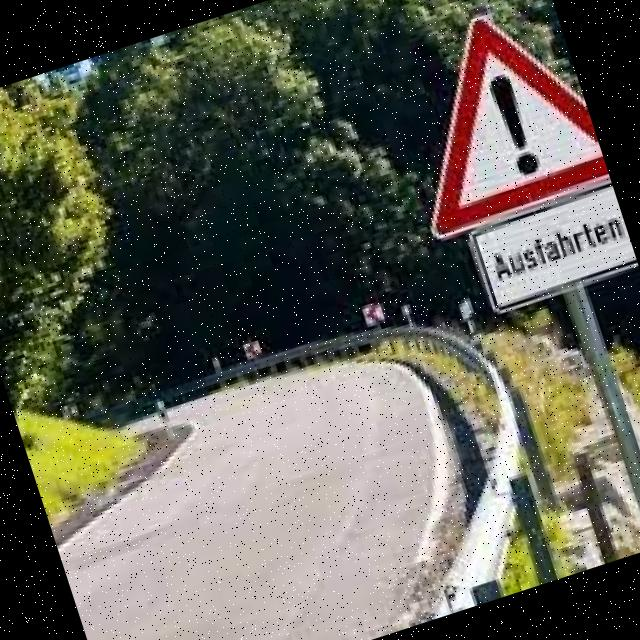warning: (362, 0, 617, 259)
